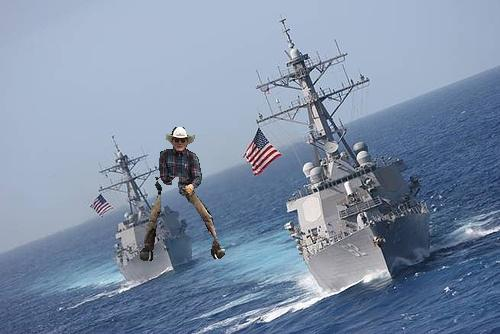tampered: (141, 128, 225, 261)
